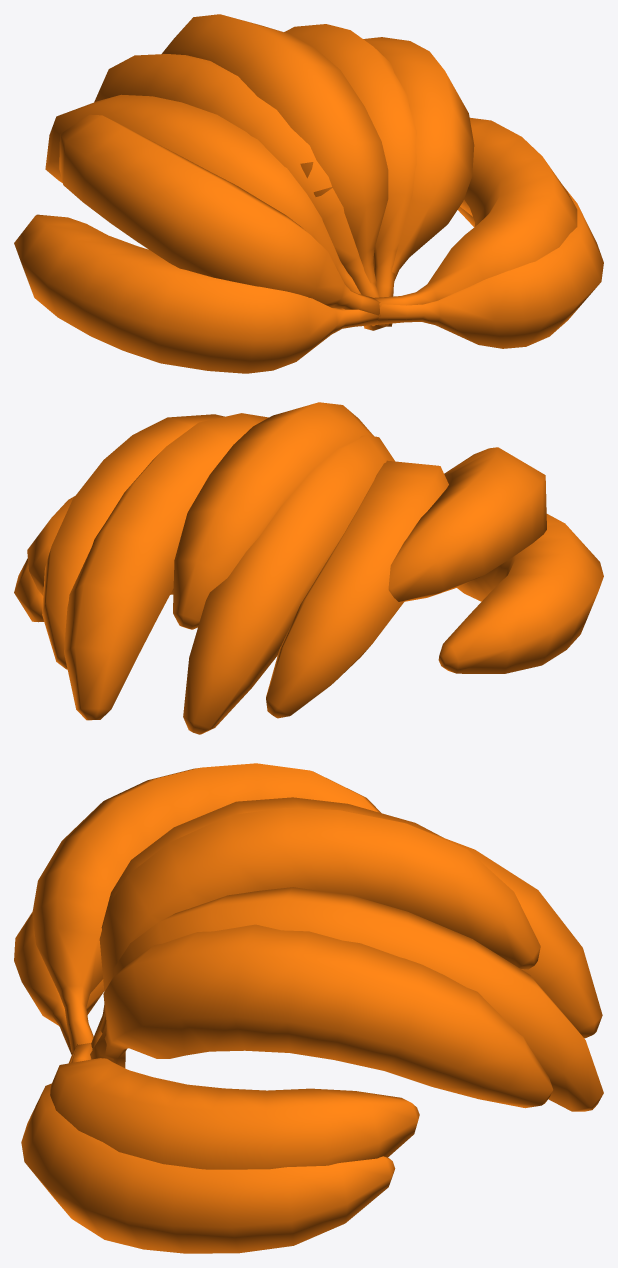
The model's file is bananas.fbx.
The picture shows the model from 3 angles, top to bottom: view 1: azimuth 30°, elevation 25°; view 2: azimuth 150°, elevation 25°; view 3: azimuth 270°, elevation 25°; orthographic projection. The views are drawn at different scales.
Parts seen in each view (by area): view 1: banana_1, banana_2, banana_6, banana_3, banana_4, banana_5, banana_8, banana_7, banana_9; view 2: banana_9, banana_8, banana_5, banana_6, banana_1, banana_2, banana_7, banana_3, banana_4; view 3: banana_7, banana_6, banana_4, banana_3, banana_2, banana_9, banana_8, banana_5, banana_1.
Boxes of the visible parts, x1,y1,x2,y2 form: banana_1: (14,214,380,373); banana_2: (59,114,380,326); banana_6: (161,14,388,286); banana_3: (372,117,577,326); banana_4: (376,186,603,348); banana_5: (45,94,361,294); banana_8: (94,54,389,330); banana_7: (363,37,474,280); banana_9: (284,24,416,326); banana_9: (64,413,268,720); banana_8: (183,435,394,734); banana_5: (266,460,448,718); banana_6: (173,402,373,629); banana_1: (438,514,603,673); banana_2: (388,447,546,601); banana_7: (42,414,224,669); banana_3: (27,496,74,595); banana_4: (14,558,173,622); banana_7: (103,924,553,1108); banana_6: (99,807,540,1033); banana_4: (21,1047,395,1253); banana_3: (50,1040,419,1169); banana_2: (32,763,380,1052); banana_9: (90,887,603,1111); banana_8: (91,810,602,1049); banana_5: (101,797,443,929); banana_1: (14,912,104,1054).
Bounding box in the file's own units: 2159 × 1056 × 1800.
